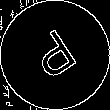P_SE: (26, 24, 84, 86)
